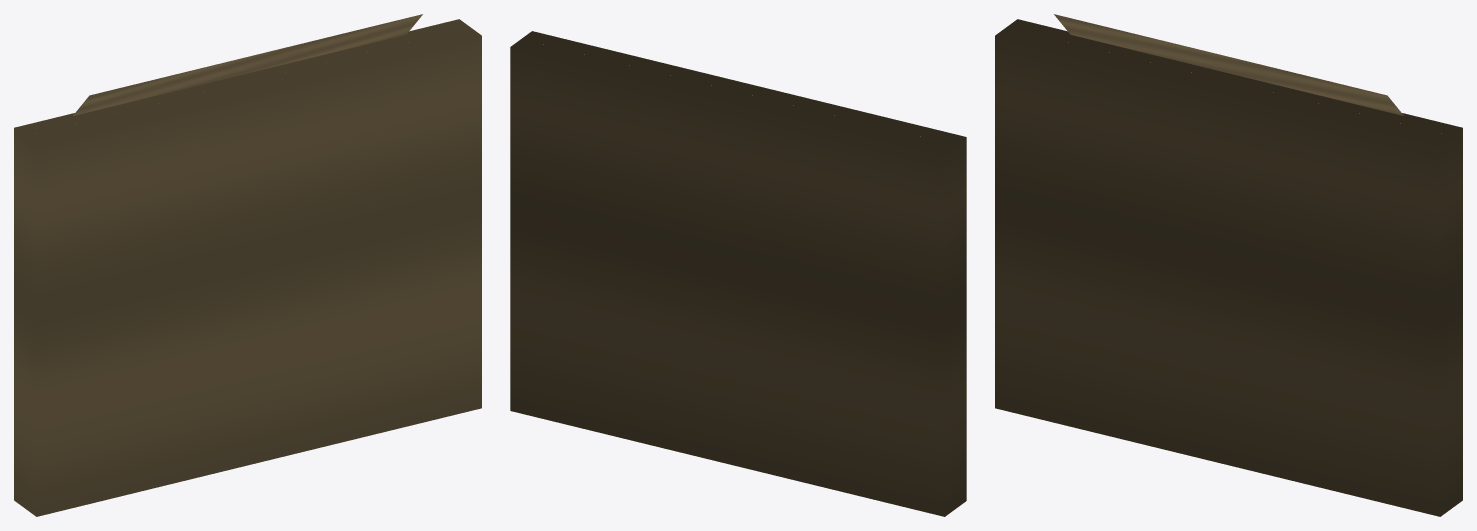
File: env_wall_concrete_4m.glb
3 renders of one model, left to right at view 1: azimuth 30°, elevation 25°; view 2: azimuth 150°, elevation 25°; view 3: azimuth 330°, elevation 25°, orthographic. The views are drawn at different scales.
Visible parts, largest first — view 1: env_wall_concrete_4m; view 2: env_wall_concrete_4m; view 3: env_wall_concrete_4m.
Part boxes in pixels (<box>): env_wall_concrete_4m: <box>14,14,481,516</box>; env_wall_concrete_4m: <box>510,31,966,516</box>; env_wall_concrete_4m: <box>995,14,1462,516</box>.
Size of the model in its own units: 4 by 3.48 by 0.35.
Materials: 1 (1 with a texture image).
